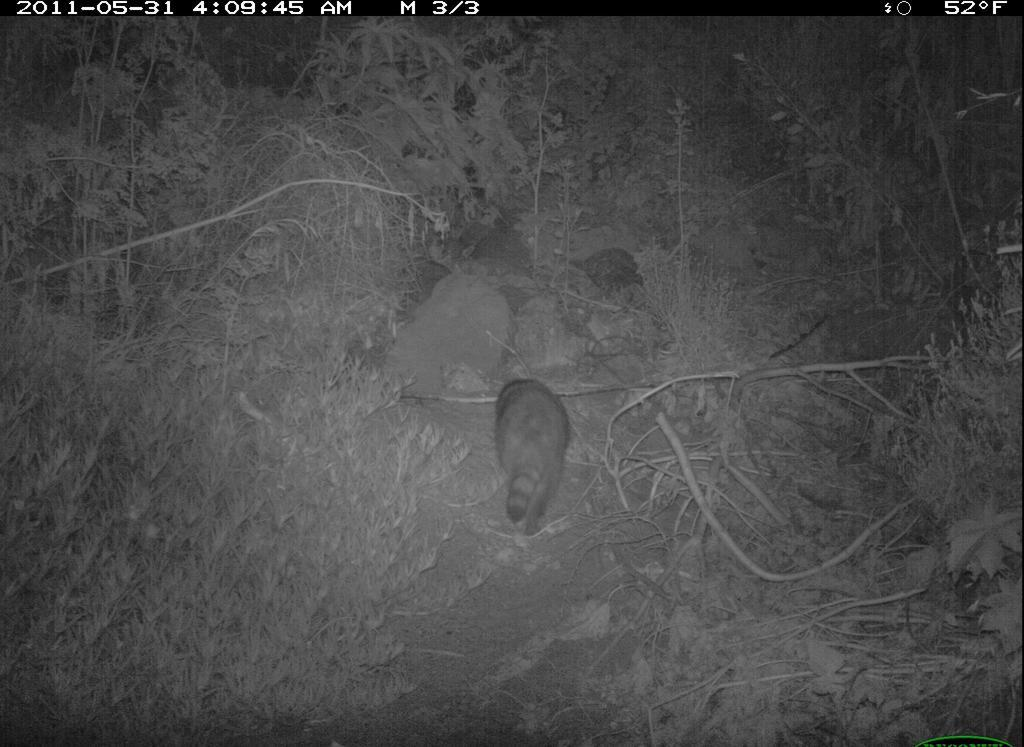raccoon: (477, 370, 577, 545)
